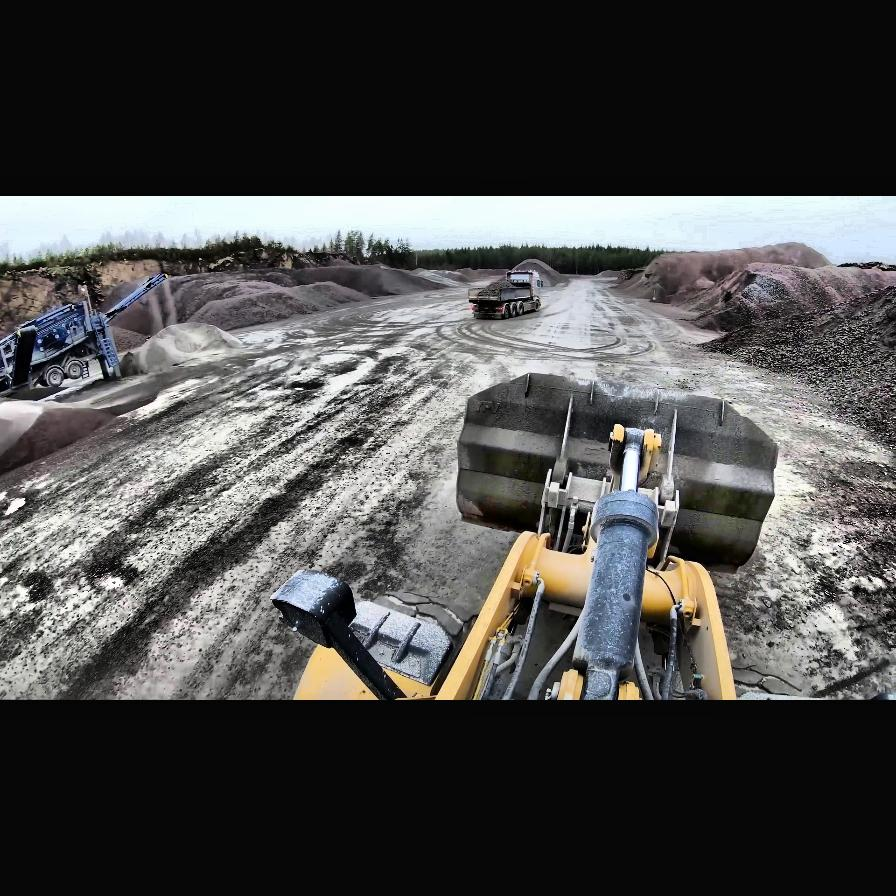anchor: (611, 424, 663, 490)
pile of gravel: (610, 243, 896, 346), (107, 260, 421, 336), (766, 288, 895, 436), (0, 402, 121, 480), (130, 321, 246, 375), (293, 264, 428, 298), (506, 258, 566, 288)
